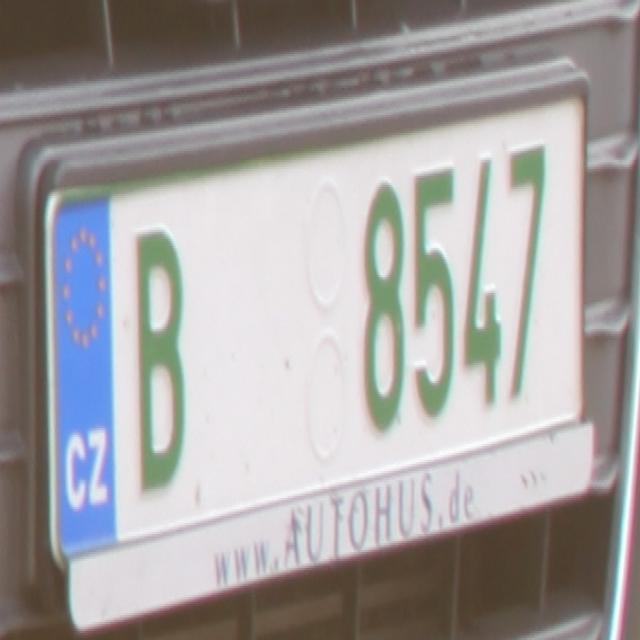4: (463, 149, 500, 408)
5: (413, 160, 454, 421)
7: (508, 137, 546, 399)
8: (363, 182, 405, 432)
B: (130, 226, 184, 494)
